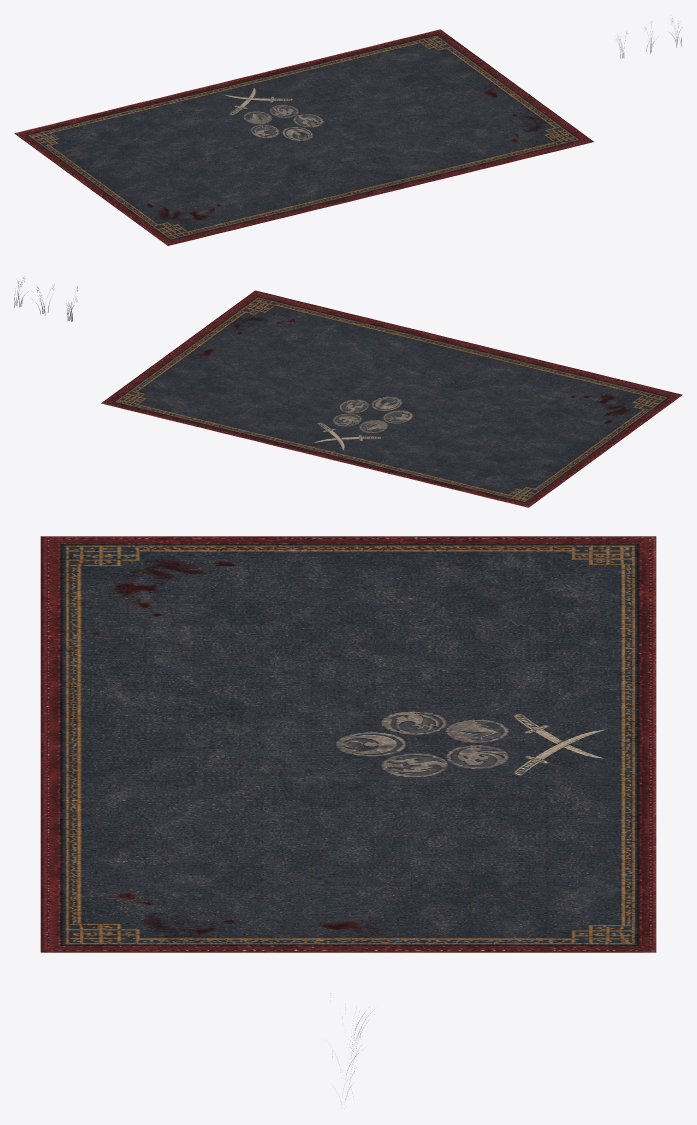
The model's file is crimson-duel.glb.
The picture shows the model from 3 angles, top to bottom: view 1: azimuth 30°, elevation 25°; view 2: azimuth 150°, elevation 25°; view 3: azimuth 270°, elevation 25°; orthographic projection. The views are drawn at different scales.
Parts seen in each view (by area): view 1: CampaignMat; view 2: CampaignMat; view 3: CampaignMat.
Boxes of the visible parts, box(x1,y1,x2,y2) form: CampaignMat: box(14, 29, 593, 245); CampaignMat: box(101, 290, 682, 507); CampaignMat: box(40, 536, 656, 952).
Bounding box in the file's own units: 22.12 × 1.23 × 10.
2 materials, 1 textured.
